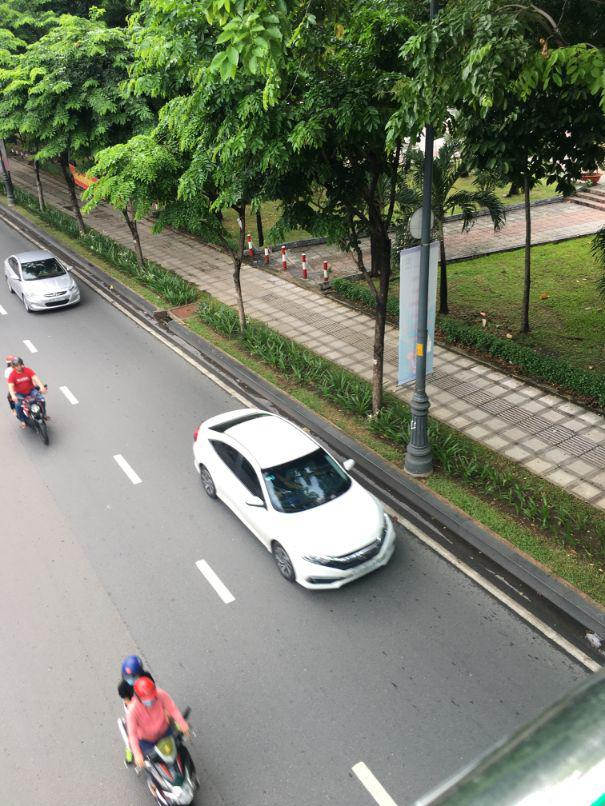car: (191, 406, 394, 590), (6, 252, 84, 316)
motorbike: (7, 369, 50, 439)
